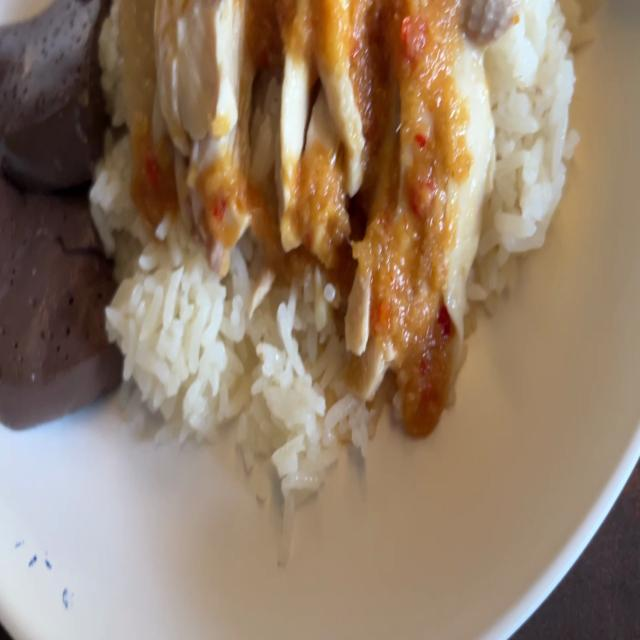boiled_chicken: (115, 0, 482, 390)
boiled_chicken_blood_jelly: (0, 165, 129, 411), (0, 0, 109, 192)
chicken_rice: (0, 0, 584, 516)
